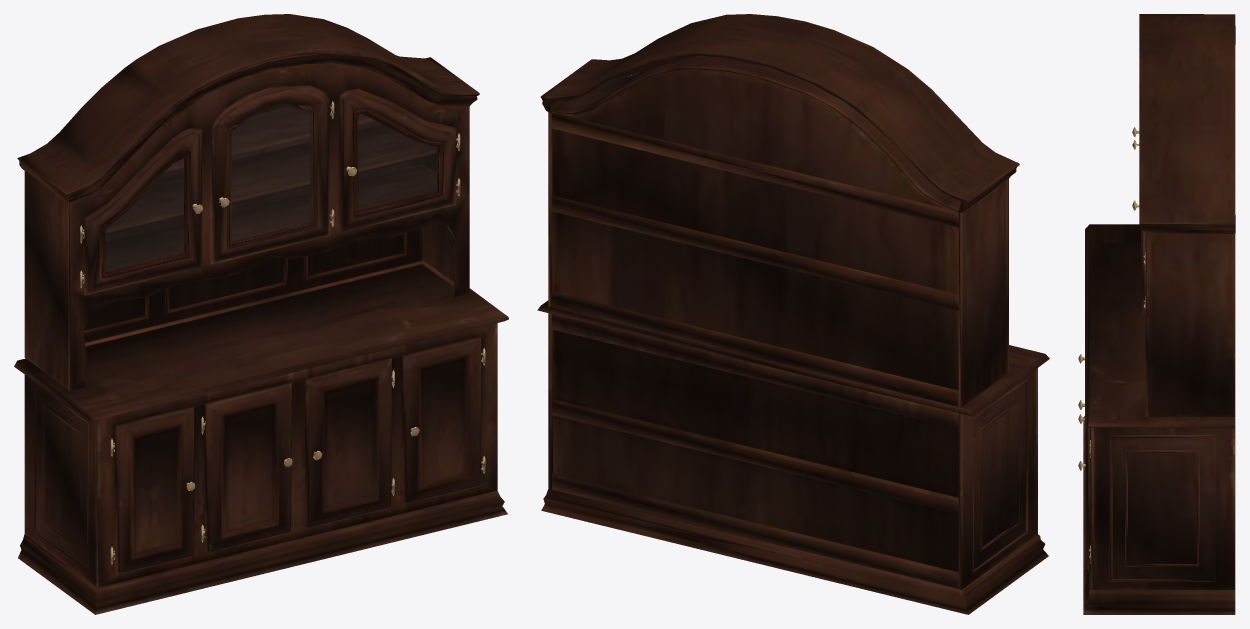
Rendered from vintage_cabinet_01.glb.
3 views of the same model, side by side, from view 1: azimuth 30°, elevation 25°; view 2: azimuth 150°, elevation 25°; view 3: azimuth 270°, elevation 25° (orthographic). The views are drawn at different scales.
Visible parts, largest first — view 1: vintage_cabinet_01_body, vintage_cabinet_01_door_01; view 2: vintage_cabinet_01_body; view 3: vintage_cabinet_01_body.
Boxes of the visible parts, x1,y1,x2,y2 form: vintage_cabinet_01_body: (14,14,508,614); vintage_cabinet_01_door_01: (105,107,436,271); vintage_cabinet_01_body: (537,14,1049,614); vintage_cabinet_01_body: (1078,14,1235,614).
Bounding box in the file's own units: 2.02 × 2.23 × 0.6698.
Materials: 3 (2 with a texture image).
